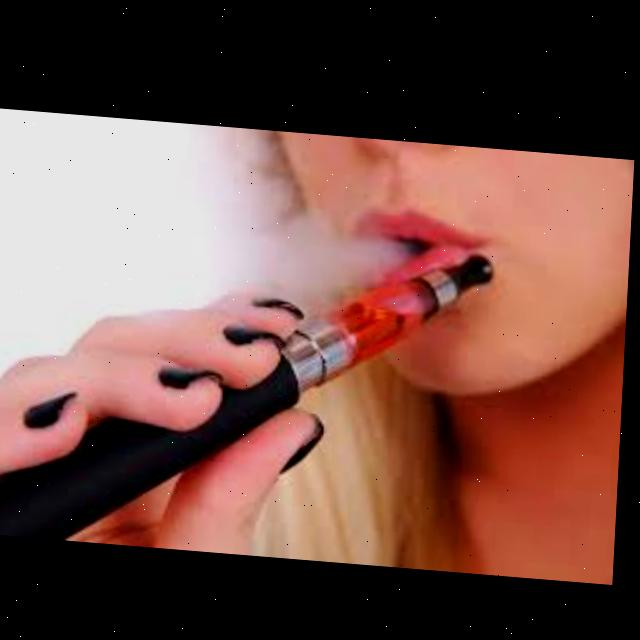vape: (0, 212, 497, 565)
